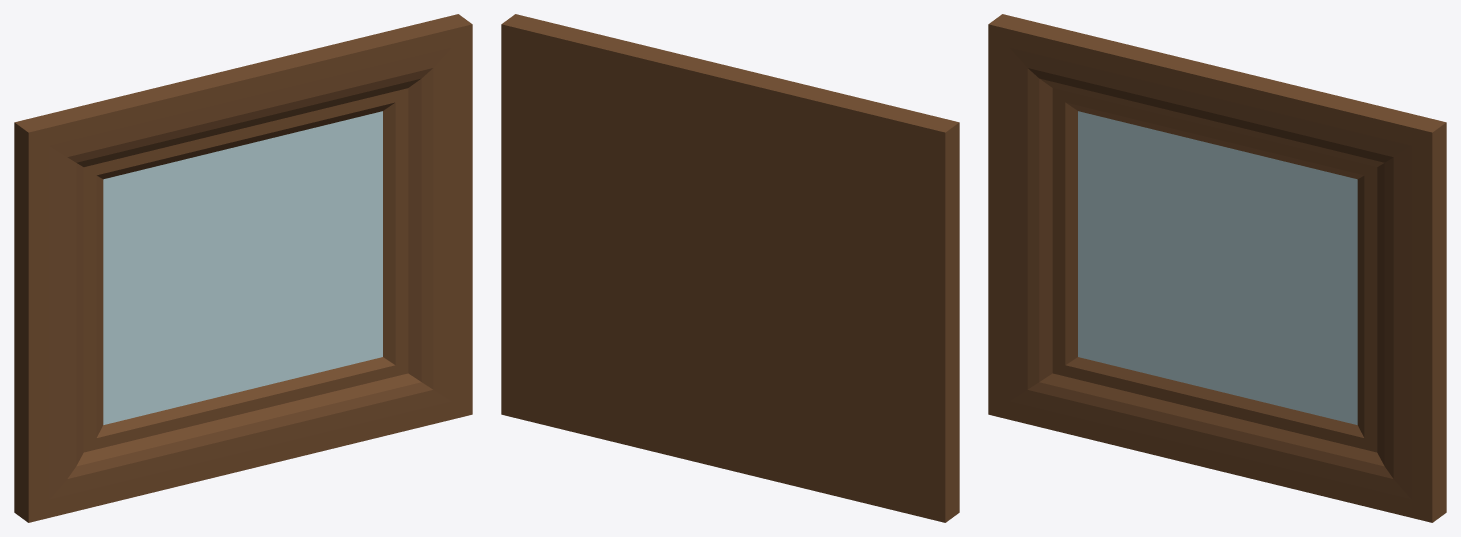
3 renders of one model, left to right at view 1: azimuth 30°, elevation 25°; view 2: azimuth 150°, elevation 25°; view 3: azimuth 330°, elevation 25°, orthographic.
Visible parts, largest first — view 1: Cube.001; view 2: Cube.001; view 3: Cube.001.
Boxes of the visible parts, box(x1,y1,x2,y2) form: Cube.001: box(14, 14, 472, 522); Cube.001: box(501, 14, 959, 522); Cube.001: box(988, 14, 1446, 522).
Size of the model in its own units: 9.23 by 7.75 by 0.5064.
